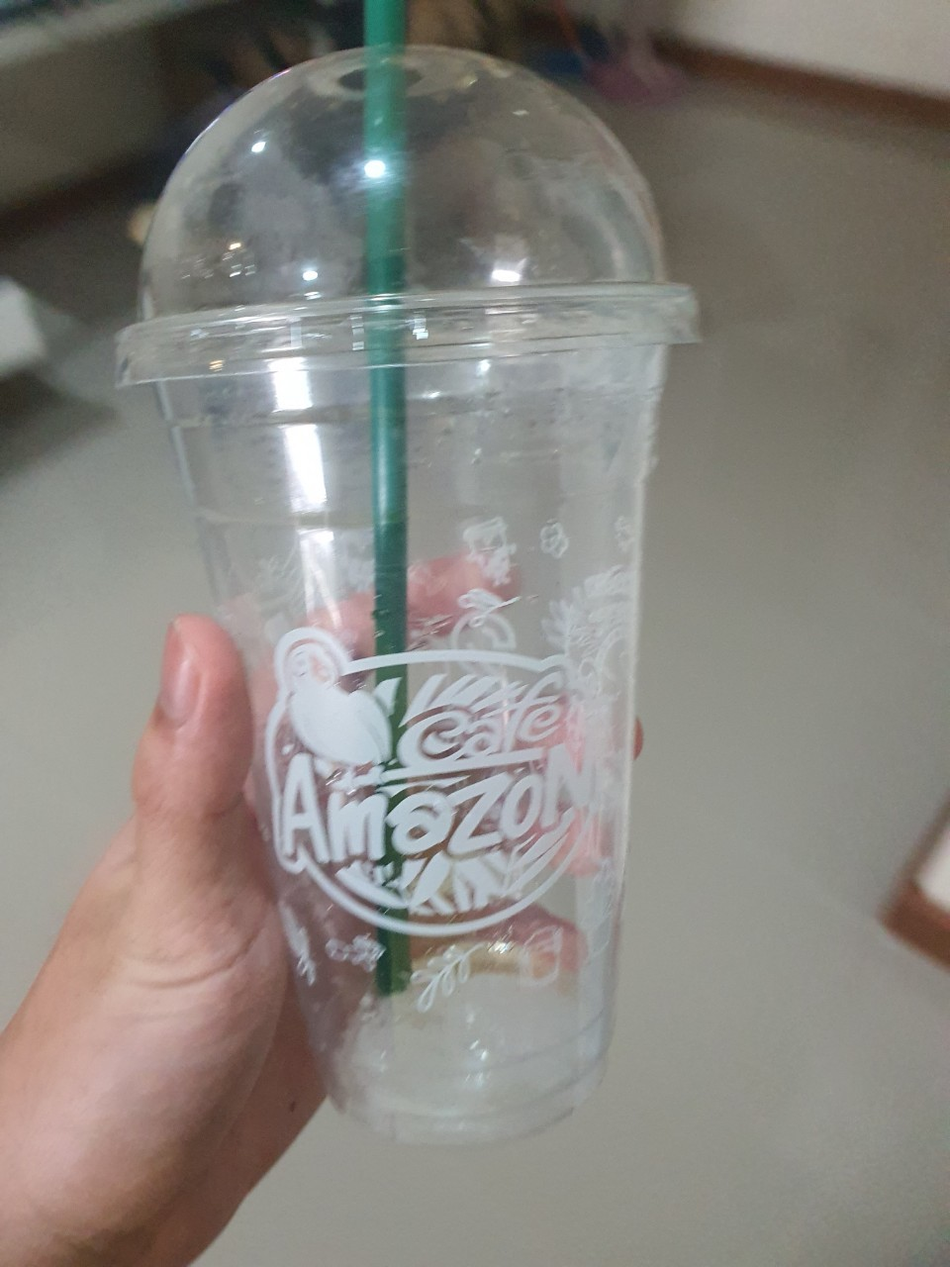plastic: (90, 28, 727, 1163)
